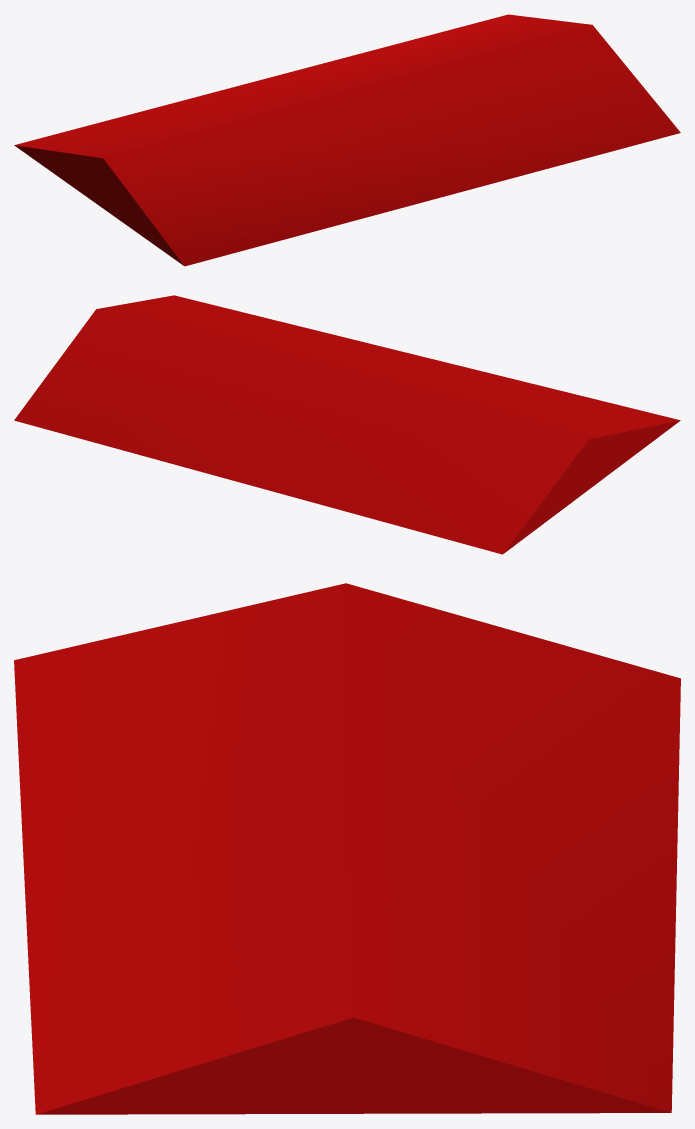
File: canopy_5_cloth.glb
3 renders of one model, top to bottom at view 1: azimuth 30°, elevation 25°; view 2: azimuth 150°, elevation 25°; view 3: azimuth 270°, elevation 25°, orthographic. The views are drawn at different scales.
Visible parts, largest first — view 1: MODEL_s_bazaar_cloth_lod0; view 2: MODEL_s_bazaar_cloth_lod0; view 3: MODEL_s_bazaar_cloth_lod0.
Part boxes in pixels (box(x1,y1,x2,y2)): MODEL_s_bazaar_cloth_lod0: box(14, 14, 680, 266); MODEL_s_bazaar_cloth_lod0: box(14, 295, 680, 554); MODEL_s_bazaar_cloth_lod0: box(14, 583, 680, 1114).
Bounding box in the file's own units: 2.02 × 0.2422 × 1.22.
